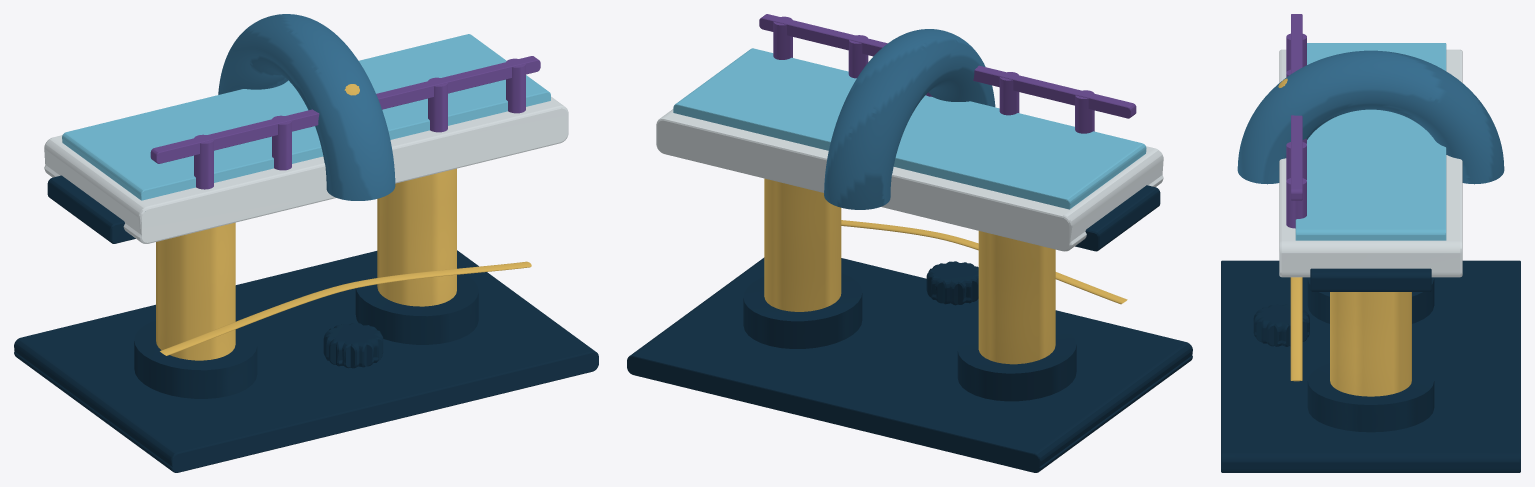
The model's file is 1180_唐图鉴_隋唐大运河.glb.
3 views of the same model, side by side, from view 1: azimuth 30°, elevation 25°; view 2: azimuth 150°, elevation 25°; view 3: azimuth 270°, elevation 25° (orthographic). The views are drawn at different scales.
Parts seen in each view (by area): view 1: card_1180; view 2: card_1180; view 3: card_1180.
Boxes of the visible parts, x1,y1,x2,y2 form: card_1180: (14, 14, 598, 472); card_1180: (627, 14, 1192, 472); card_1180: (1221, 14, 1520, 472).
Size of the model in its own units: 1.4 by 1 by 0.8437.
